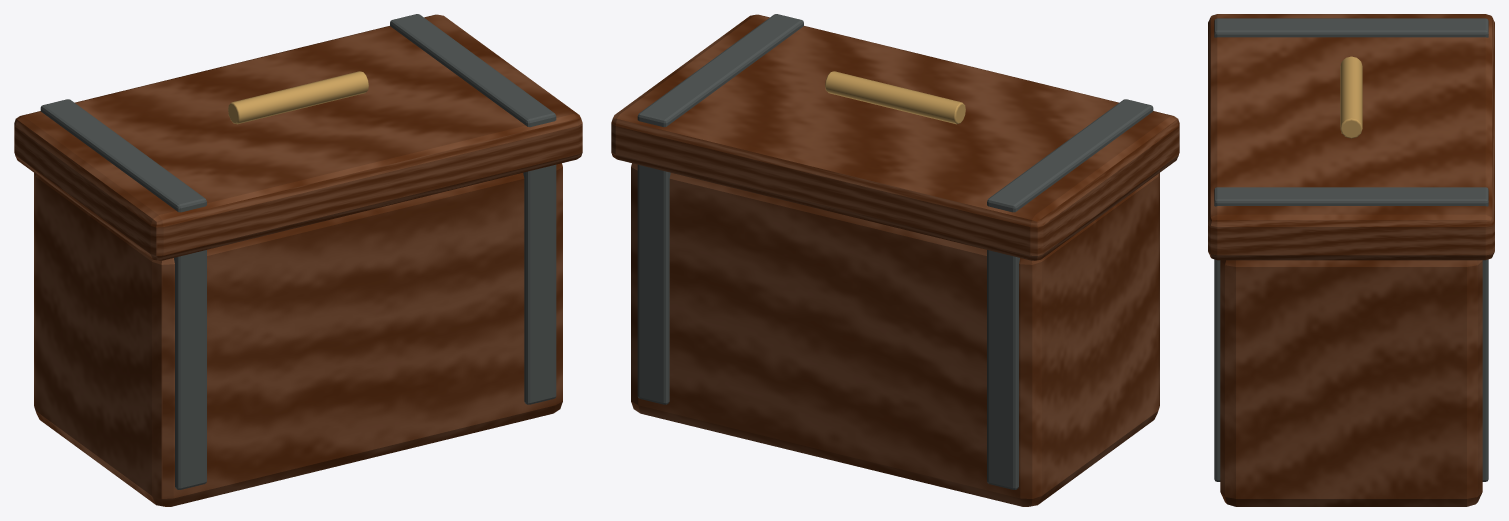
File: Prop_Tool_Chest_01_LOD0.fbx
3 views of the same model, side by side, from view 1: azimuth 30°, elevation 25°; view 2: azimuth 150°, elevation 25°; view 3: azimuth 270°, elevation 25° (orthographic).
Parts seen in each view (by area): view 1: Prop_Tool_Chest_01_OPT_Merged_RB_Wood_Walnut_OPT_DATA, Prop_Tool_Chest_01_OPT_Merged_RB_Steel_Blackened_OPT_DATA, Prop_Tool_Chest_01_Handle_OPT; view 2: Prop_Tool_Chest_01_OPT_Merged_RB_Wood_Walnut_OPT_DATA, Prop_Tool_Chest_01_OPT_Merged_RB_Steel_Blackened_OPT_DATA, Prop_Tool_Chest_01_Handle_OPT; view 3: Prop_Tool_Chest_01_OPT_Merged_RB_Wood_Walnut_OPT_DATA, Prop_Tool_Chest_01_OPT_Merged_RB_Steel_Blackened_OPT_DATA, Prop_Tool_Chest_01_Handle_OPT.
Boxes of the visible parts, left/top/right/bottom form: Prop_Tool_Chest_01_OPT_Merged_RB_Wood_Walnut_OPT_DATA: left=14, top=14, right=582, bottom=506; Prop_Tool_Chest_01_OPT_Merged_RB_Steel_Blackened_OPT_DATA: left=40, top=14, right=556, bottom=489; Prop_Tool_Chest_01_Handle_OPT: left=228, top=71, right=368, bottom=124; Prop_Tool_Chest_01_OPT_Merged_RB_Wood_Walnut_OPT_DATA: left=611, top=14, right=1179, bottom=506; Prop_Tool_Chest_01_OPT_Merged_RB_Steel_Blackened_OPT_DATA: left=637, top=14, right=1153, bottom=489; Prop_Tool_Chest_01_Handle_OPT: left=825, top=71, right=965, bottom=124; Prop_Tool_Chest_01_OPT_Merged_RB_Wood_Walnut_OPT_DATA: left=1208, top=14, right=1494, bottom=506; Prop_Tool_Chest_01_OPT_Merged_RB_Steel_Blackened_OPT_DATA: left=1214, top=18, right=1488, bottom=481; Prop_Tool_Chest_01_Handle_OPT: left=1340, top=56, right=1362, bottom=138.
Bounding box in the file's own units: 79 × 57.8 × 46.
3 materials, 1 textured.
